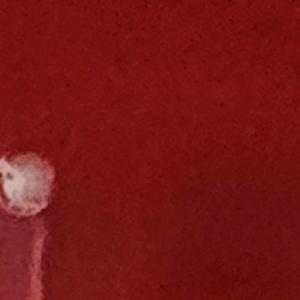colony: (0, 147, 62, 223)
